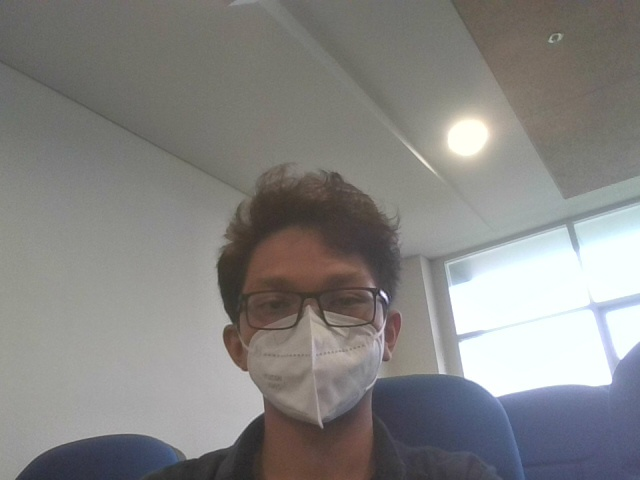Awake: (208, 166, 408, 466)
